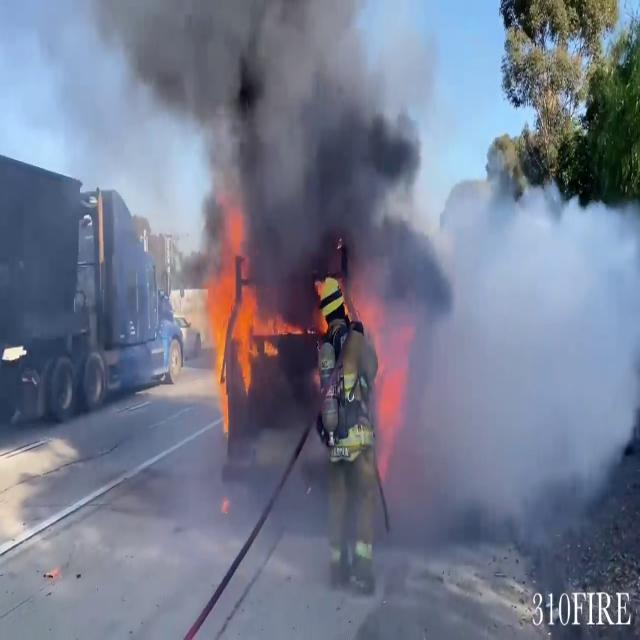Fire: (202, 229, 285, 411)
Smoke: (62, 0, 444, 297), (406, 138, 640, 508)
